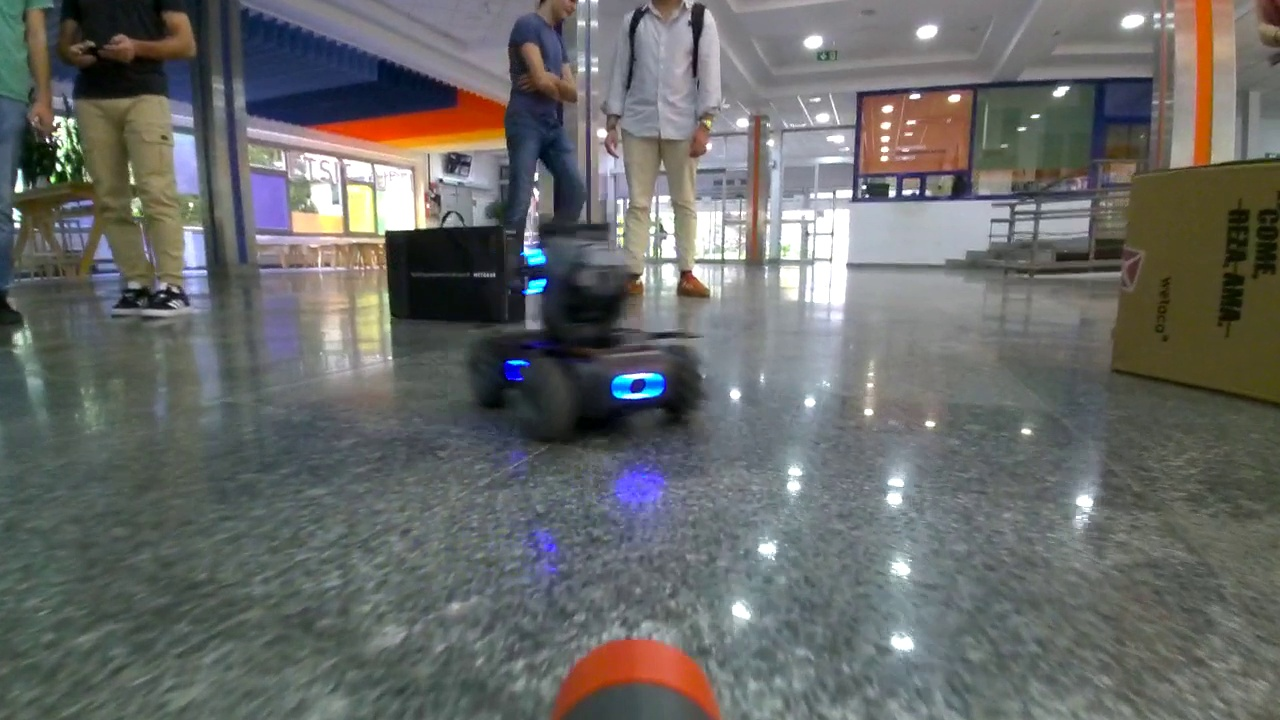robot: (477, 242, 703, 449)
